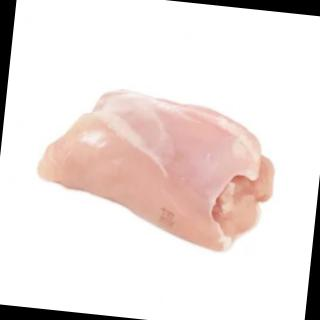Ayam: (33, 82, 283, 261)
